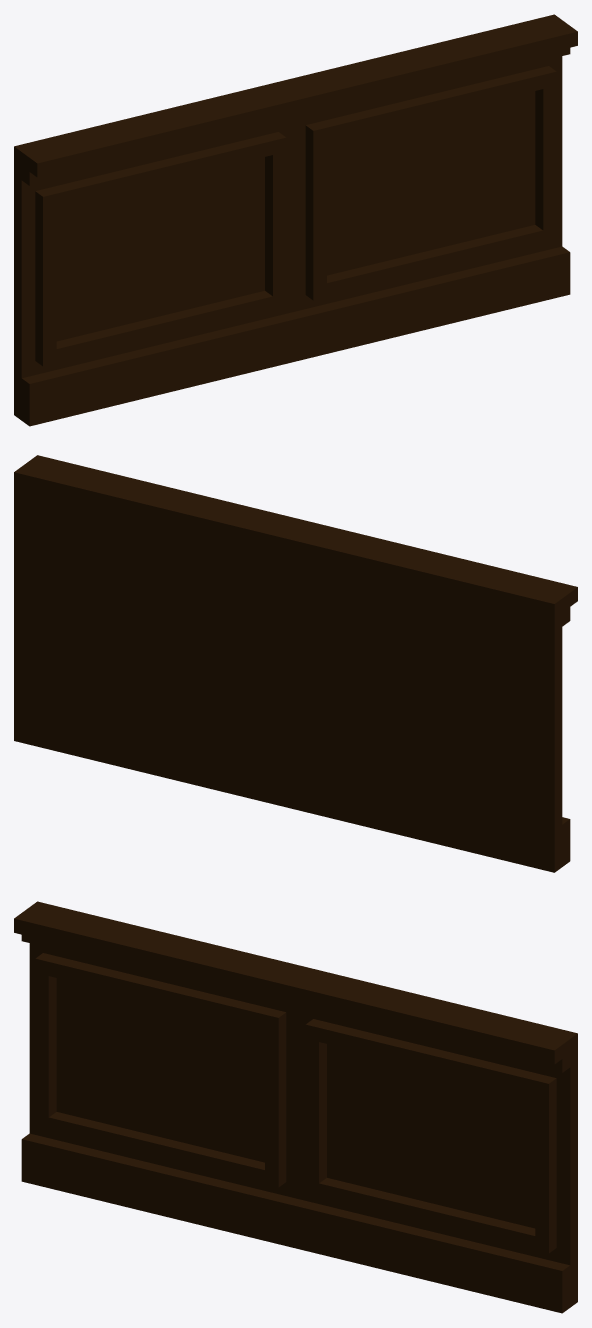
File: parede_cortada.obj
3 views of the same model, one above another, from view 1: azimuth 30°, elevation 25°; view 2: azimuth 150°, elevation 25°; view 3: azimuth 330°, elevation 25° (orthographic).
Parts seen in each view (by area): view 1: parede_cortada; view 2: parede_cortada; view 3: parede_cortada.
Boxes of the visible parts, x1,y1,x2,y2 form: parede_cortada: (14,14,577,426); parede_cortada: (14,455,577,872); parede_cortada: (14,901,577,1313).
Size of the model in its own units: 40 by 19 by 3.
Materials: 1 (1 with a texture image).
